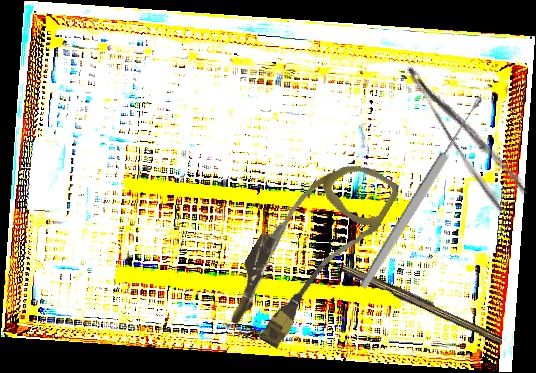Cannula: (214, 137, 403, 362)
Dressing Forceps: (403, 48, 531, 216)
Scalpel Handle: (339, 261, 506, 345)
Surgical Spoon: (357, 94, 487, 291)
